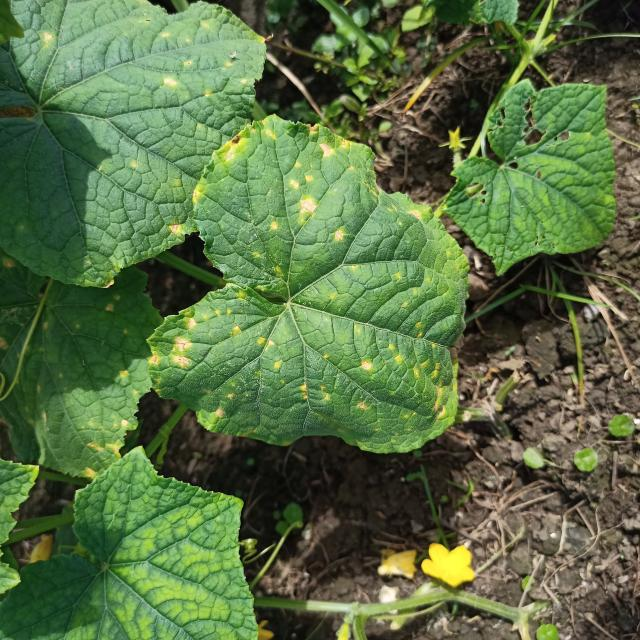disease_cucumber: (170, 119, 462, 443), (2, 296, 144, 459), (152, 19, 248, 101)
